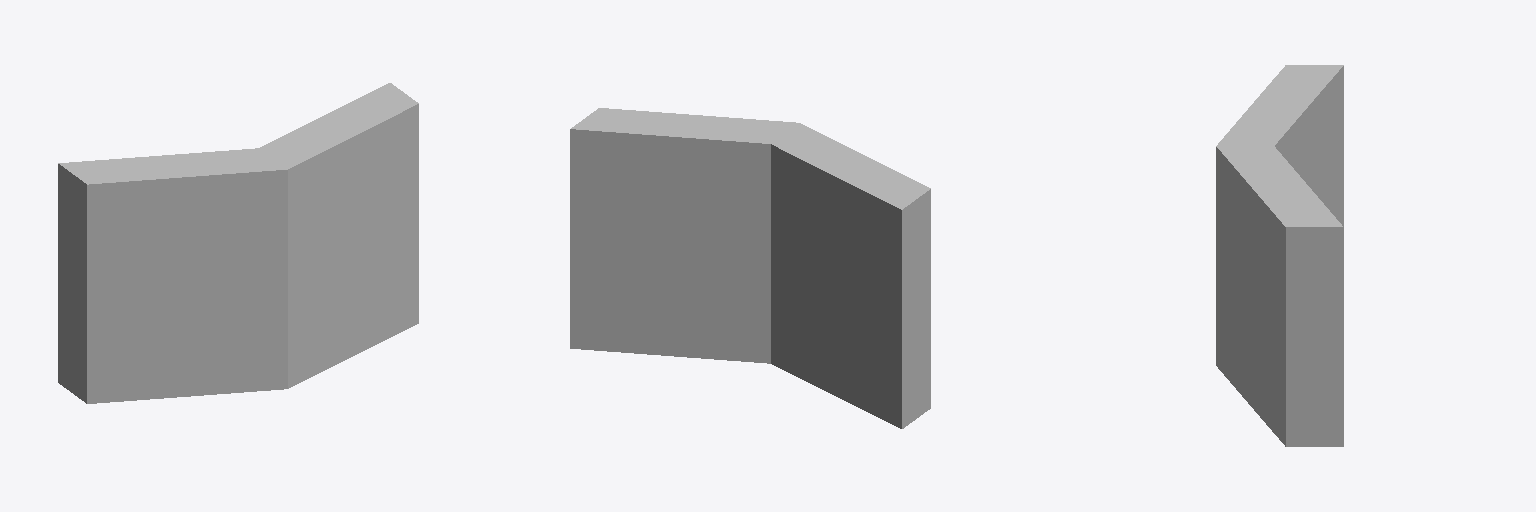
File: shahei.obj
3 renders of one model, left to right at view 1: azimuth 30°, elevation 25°; view 2: azimuth 150°, elevation 25°; view 3: azimuth 270°, elevation 25°, orthographic.
Parts seen in each view (by area): view 1: object; view 2: object; view 3: object.
Boxes of the visible parts, box(x1,y1,x2,y2) form: object: box(58, 83, 418, 403); object: box(570, 108, 930, 428); object: box(1216, 65, 1343, 446).
Size of the model in its own units: 5.6 by 3.54 by 1.87.